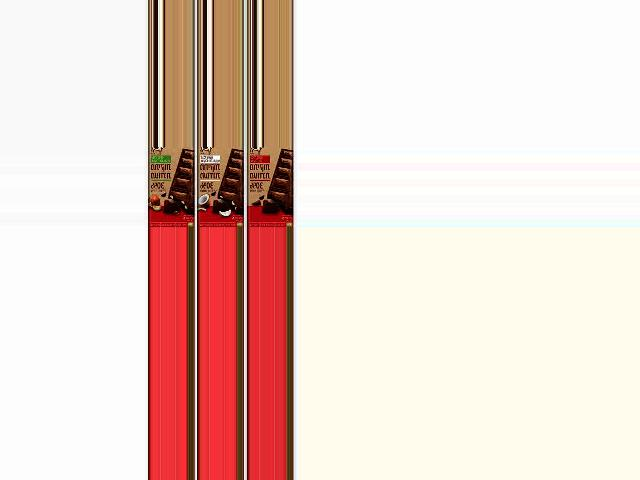chocolate: (146, 148, 193, 228)
